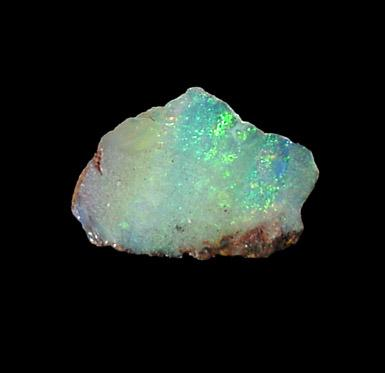opal: (73, 88, 295, 254)
